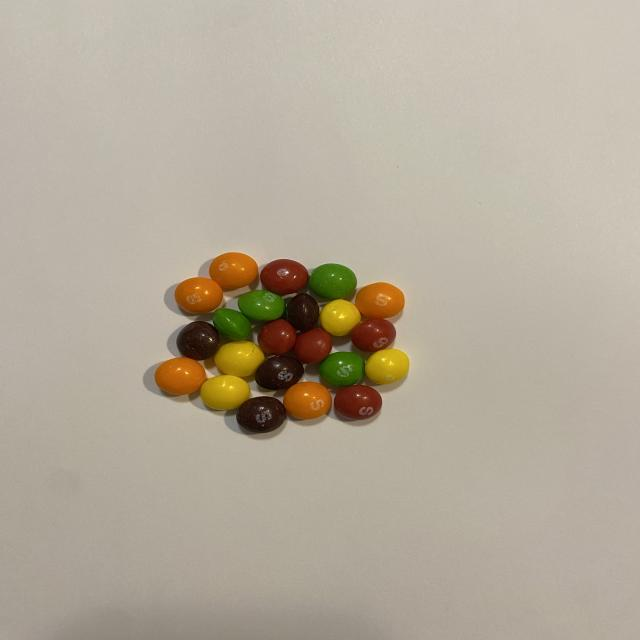smartie: (153, 357, 205, 395), (213, 340, 264, 377), (208, 252, 258, 289), (283, 382, 331, 420), (308, 263, 357, 300), (355, 282, 405, 318), (236, 397, 286, 433), (173, 277, 222, 313), (259, 259, 308, 295), (175, 321, 219, 361), (200, 375, 250, 410), (255, 355, 304, 390), (333, 385, 382, 420), (319, 352, 365, 387), (365, 349, 410, 384), (319, 299, 361, 336), (237, 290, 285, 321), (351, 319, 396, 352), (292, 328, 332, 364), (257, 319, 296, 355), (286, 293, 319, 332), (212, 308, 251, 341)
